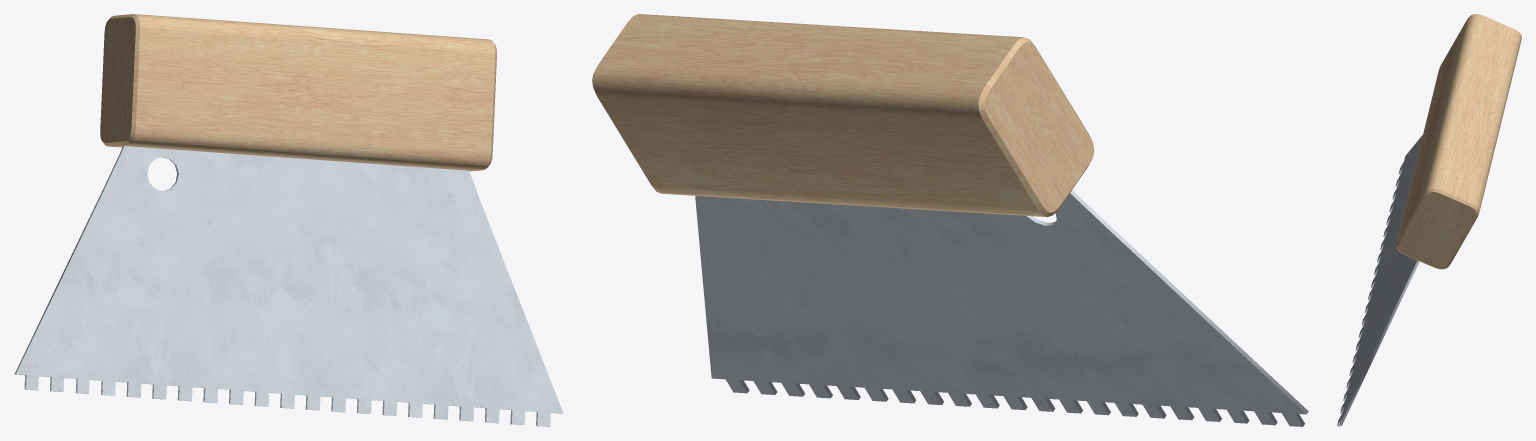
The model's file is ToothedSpatula.glb.
The picture shows the model from 3 angles, left to right: view 1: azimuth 30°, elevation 25°; view 2: azimuth 150°, elevation 25°; view 3: azimuth 270°, elevation 25°; orthographic projection. The views are drawn at different scales.
Parts seen in each view (by area): view 1: ToothedSpatula_ToothedSpatula_0; view 2: ToothedSpatula_ToothedSpatula_0; view 3: ToothedSpatula_ToothedSpatula_0.
Boxes of the visible parts, x1=… form: ToothedSpatula_ToothedSpatula_0: x1=14, y1=14, x2=563, y2=426; ToothedSpatula_ToothedSpatula_0: x1=592, y1=14, x2=1308, y2=426; ToothedSpatula_ToothedSpatula_0: x1=1337, y1=14, x2=1521, y2=426.
Size of the model in its own units: 0.1731 by 0.1379 by 0.0766.
1 material, 1 textured.
